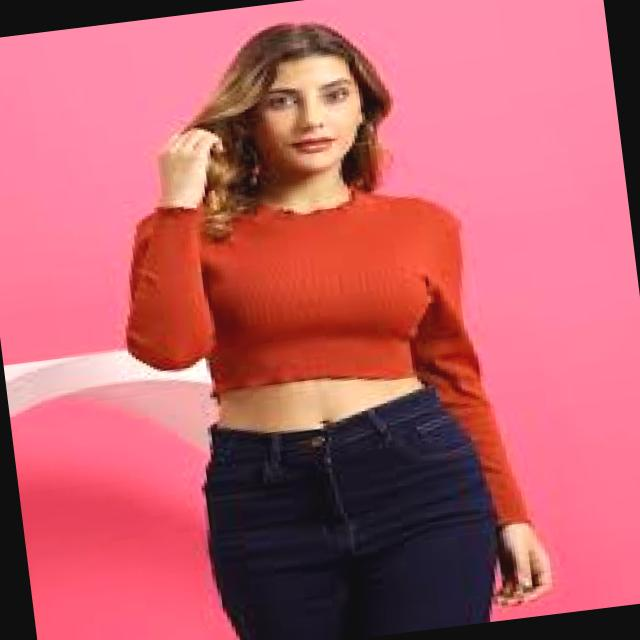face: (251, 54, 362, 181)
lower-wear: (201, 385, 498, 639)
top-wear: (125, 187, 530, 526)
